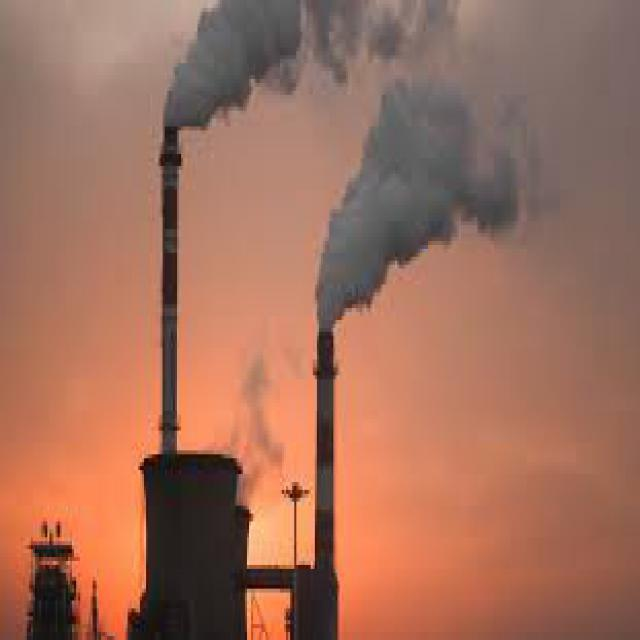Smoke: (298, 85, 510, 337), (146, 6, 295, 162)
